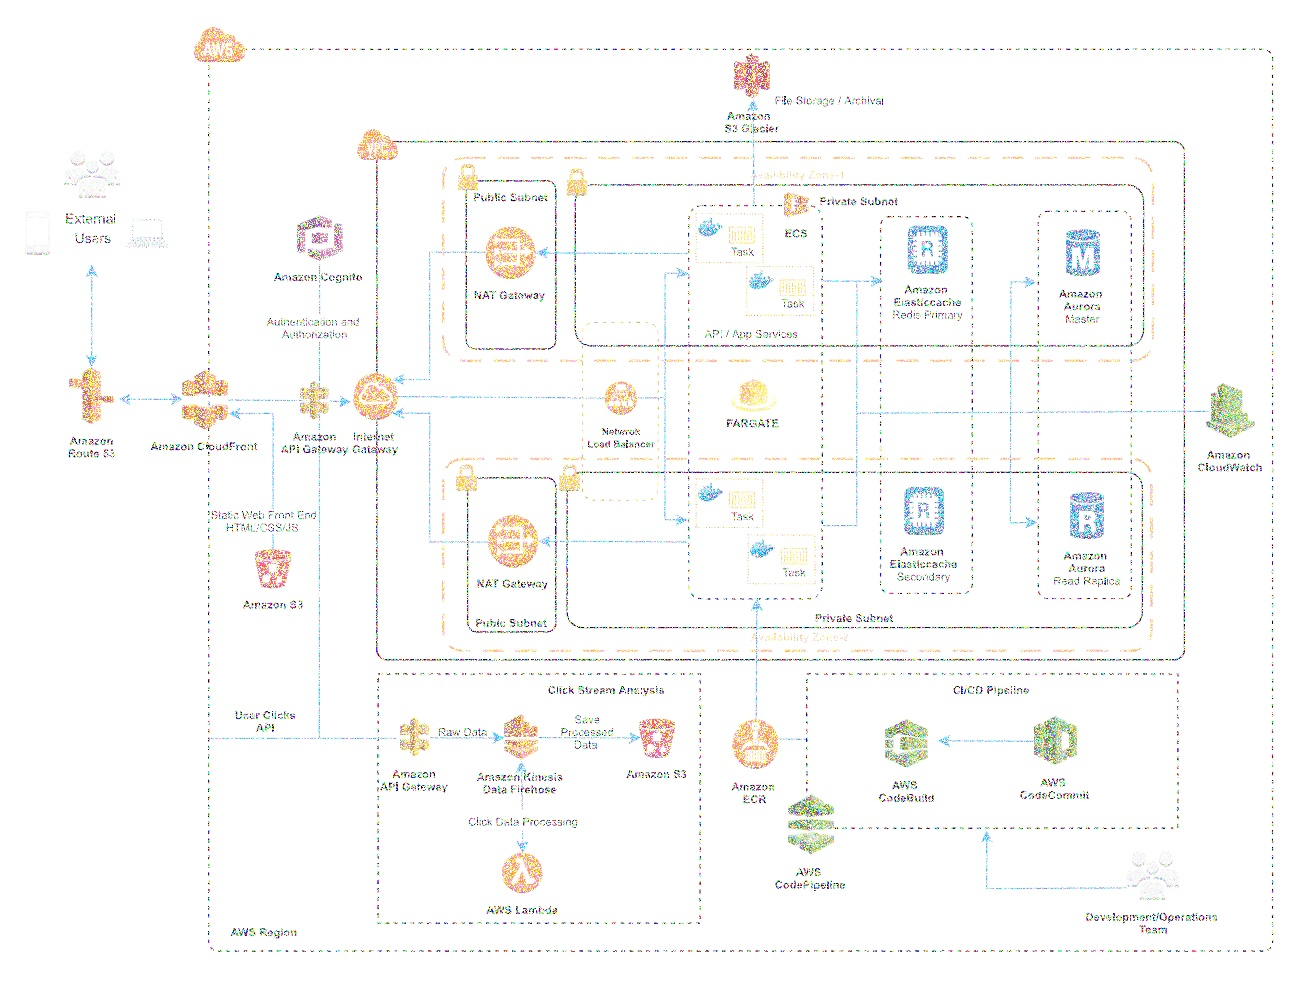ALB: (600, 375, 641, 421)
API-Gateway: (394, 706, 434, 762), (293, 375, 333, 416)
Cloud Watch: (1200, 378, 1259, 440)
Cloudfront: (178, 363, 232, 432)
CodeBuild: (875, 713, 934, 771)
CodeCommit: (1029, 713, 1084, 766)
CodePipeline: (784, 786, 841, 858)
Cognito: (289, 208, 358, 262)
Container: (778, 543, 811, 571), (727, 487, 758, 511)
Docker Image: (696, 212, 725, 241), (747, 267, 776, 292), (697, 479, 725, 504), (749, 536, 776, 559)
EC2: (899, 218, 954, 279), (899, 481, 953, 539)
Elastic Container Registry: (732, 714, 779, 770)
Elastic Container Service: (777, 186, 816, 223)
Fargate: (725, 371, 787, 418)
Internet Gateway: (350, 367, 399, 422)
Kinesis Data Streams: (498, 705, 546, 764)
Lambda: (499, 850, 545, 894)
NAT Gateway: (483, 510, 540, 570), (486, 221, 536, 282)
Public Subnet: (455, 158, 482, 195), (452, 461, 482, 495), (563, 164, 590, 198), (558, 462, 584, 492)
RDS: (1057, 218, 1109, 280), (1064, 487, 1113, 541)
Route53: (69, 364, 118, 425)
S3: (728, 46, 778, 100), (252, 547, 296, 592), (641, 711, 677, 763)
Users: (1120, 843, 1188, 905), (58, 145, 127, 204)
aws: (192, 18, 249, 65)
